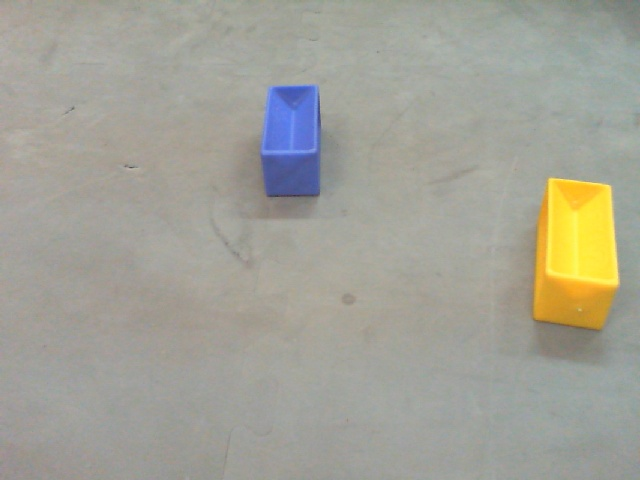BlueSample: (260, 83, 323, 198)
YellowSample: (533, 176, 622, 331)
